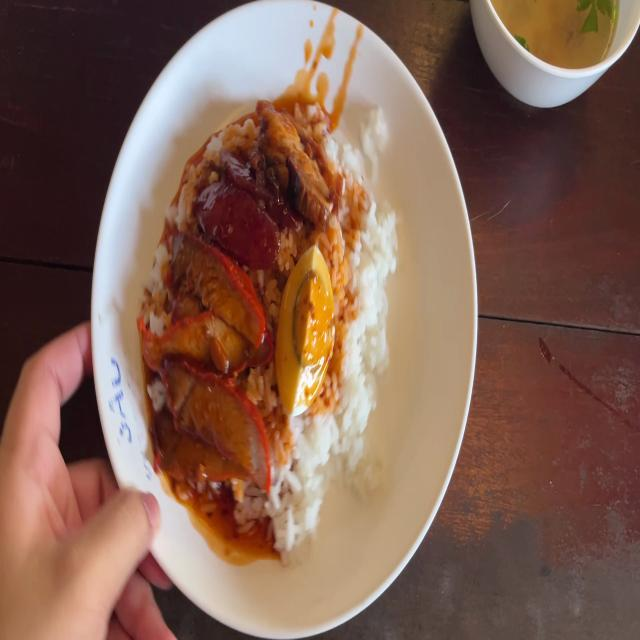red_pork_and_crispy_pork: (277, 244, 335, 412)
stir_fried_basil: (193, 162, 289, 262)
